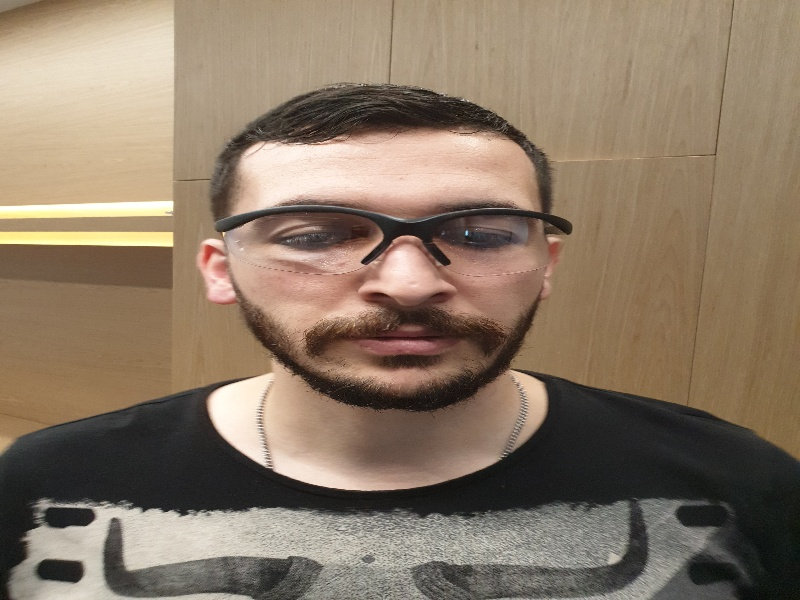Gozluk: (210, 207, 569, 271)
